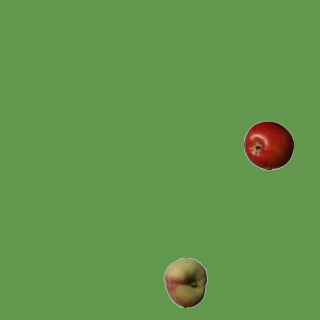Apple Braeburn: (243, 120, 293, 170)
Peach Flat: (160, 257, 210, 307)
